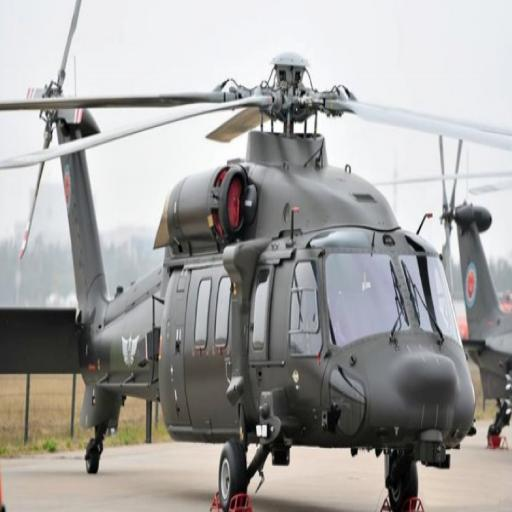helicopter: (6, 34, 478, 506)
